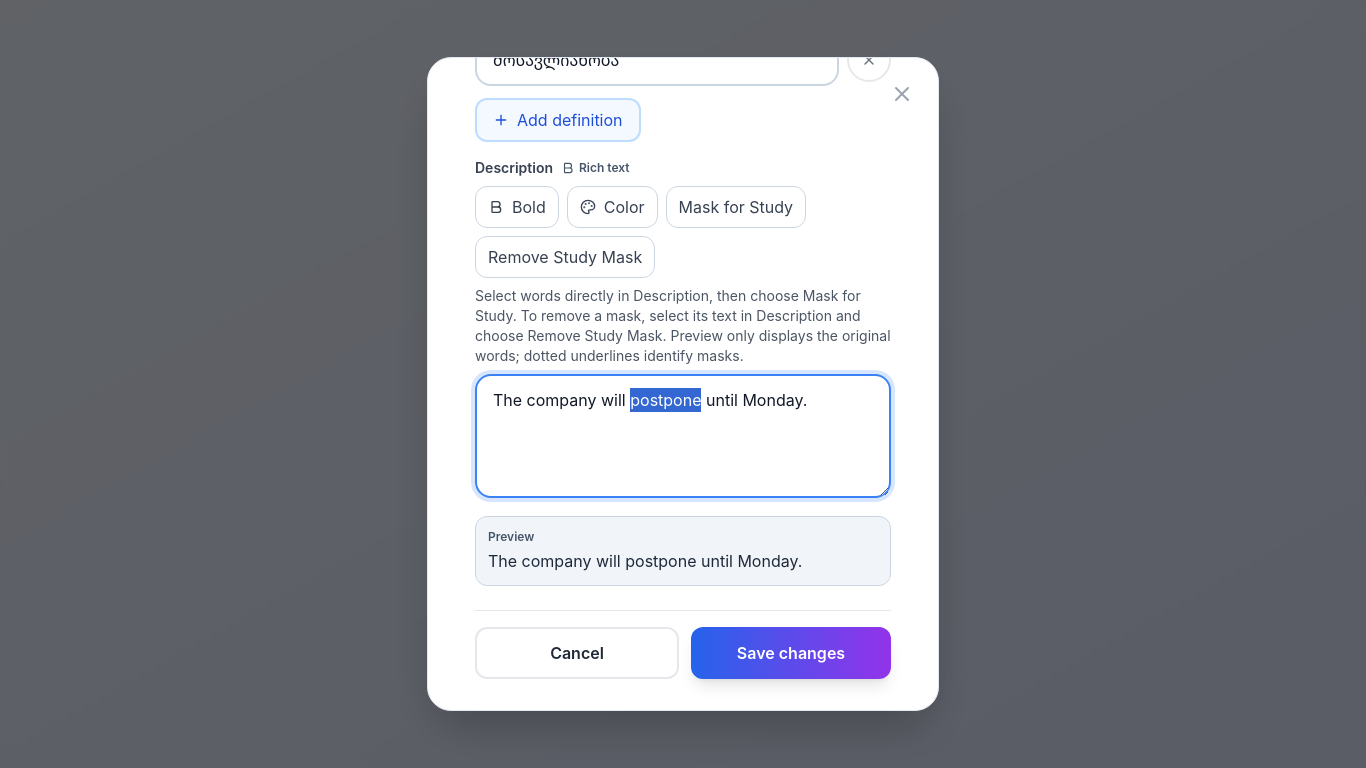
it: Word editor study masking › masks a word selected directly inside the textarea
(page scrolled)
Click the button "Mask for Study" at (736,207), box [666,186,806,228]
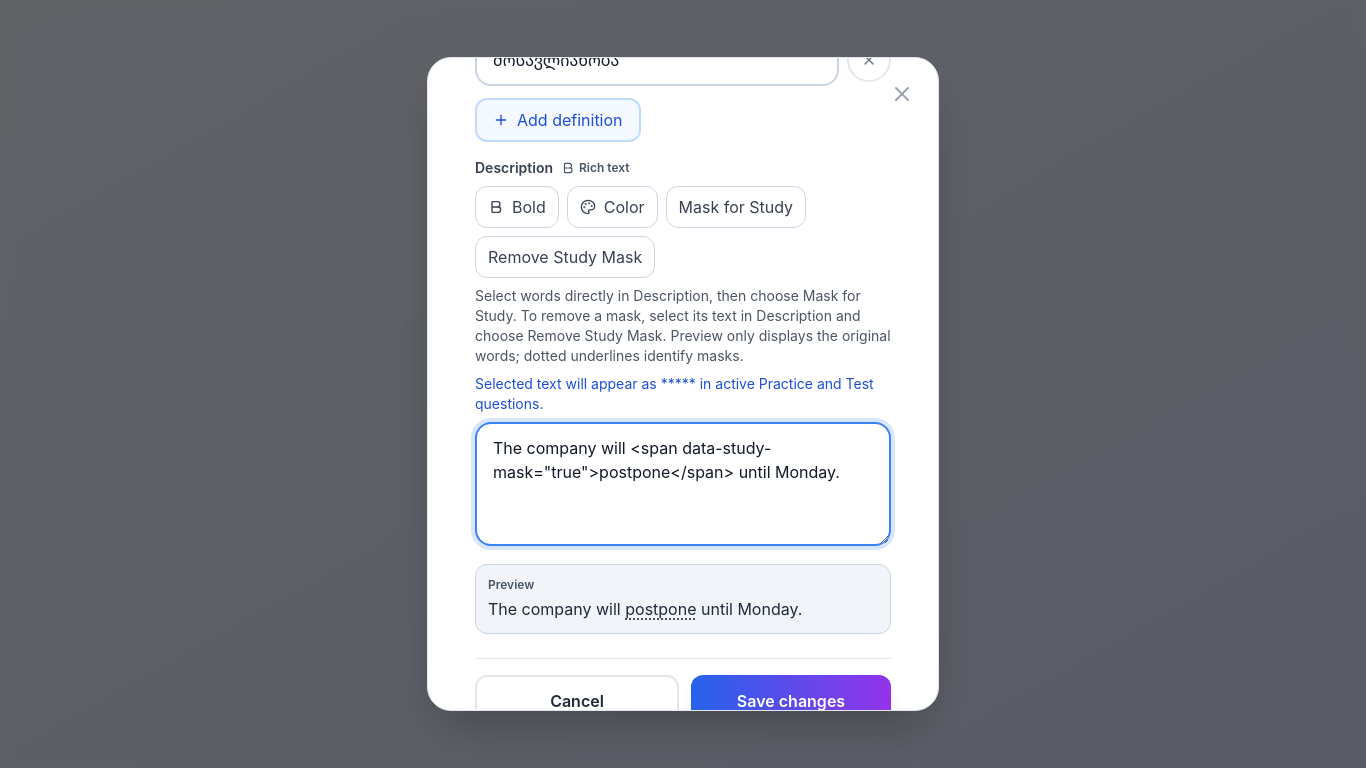
Now the text box with placeholder "Add additional context or example sentences..." holds "The company will <span data-study-mask=\"true\">postpone</span> until Monday.", box [475,422,891,546]
